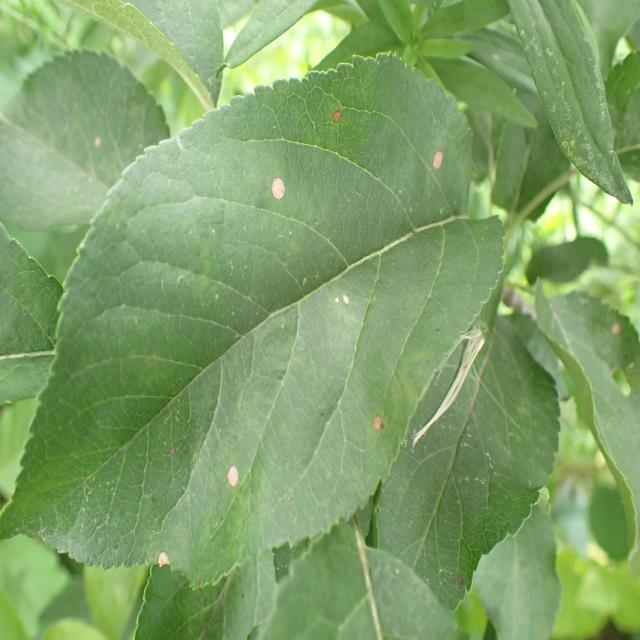frog-eye-leaf-spot: (1, 50, 506, 593)
